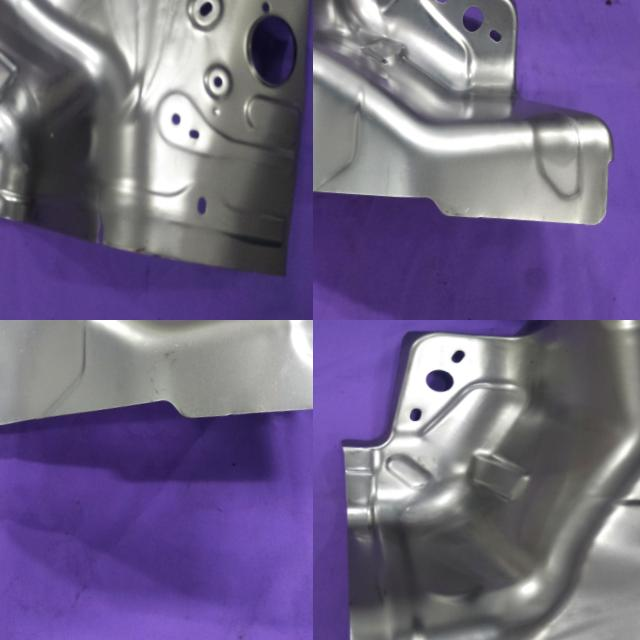Defect: (80, 180, 123, 264)
Healthy: (313, 320, 640, 640), (313, 0, 633, 229), (0, 320, 313, 487)
